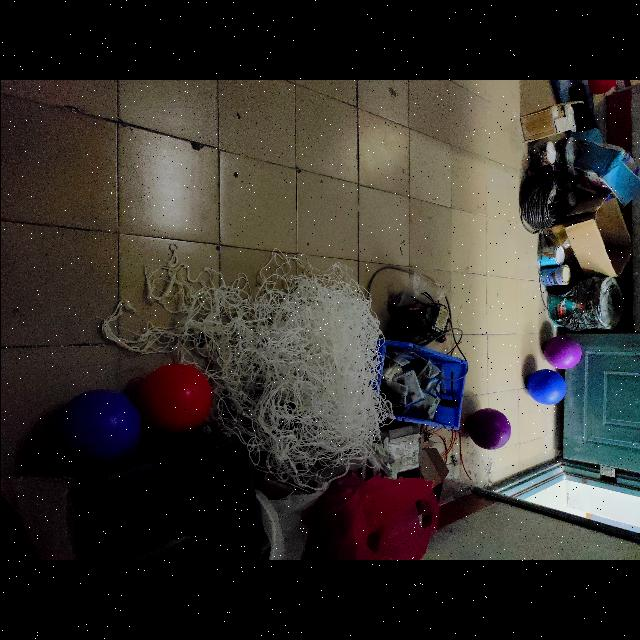B: (55, 385, 139, 461), (522, 366, 566, 404)
P: (468, 406, 512, 449), (540, 333, 584, 369), (587, 80, 617, 94)
R: (131, 362, 217, 436)
